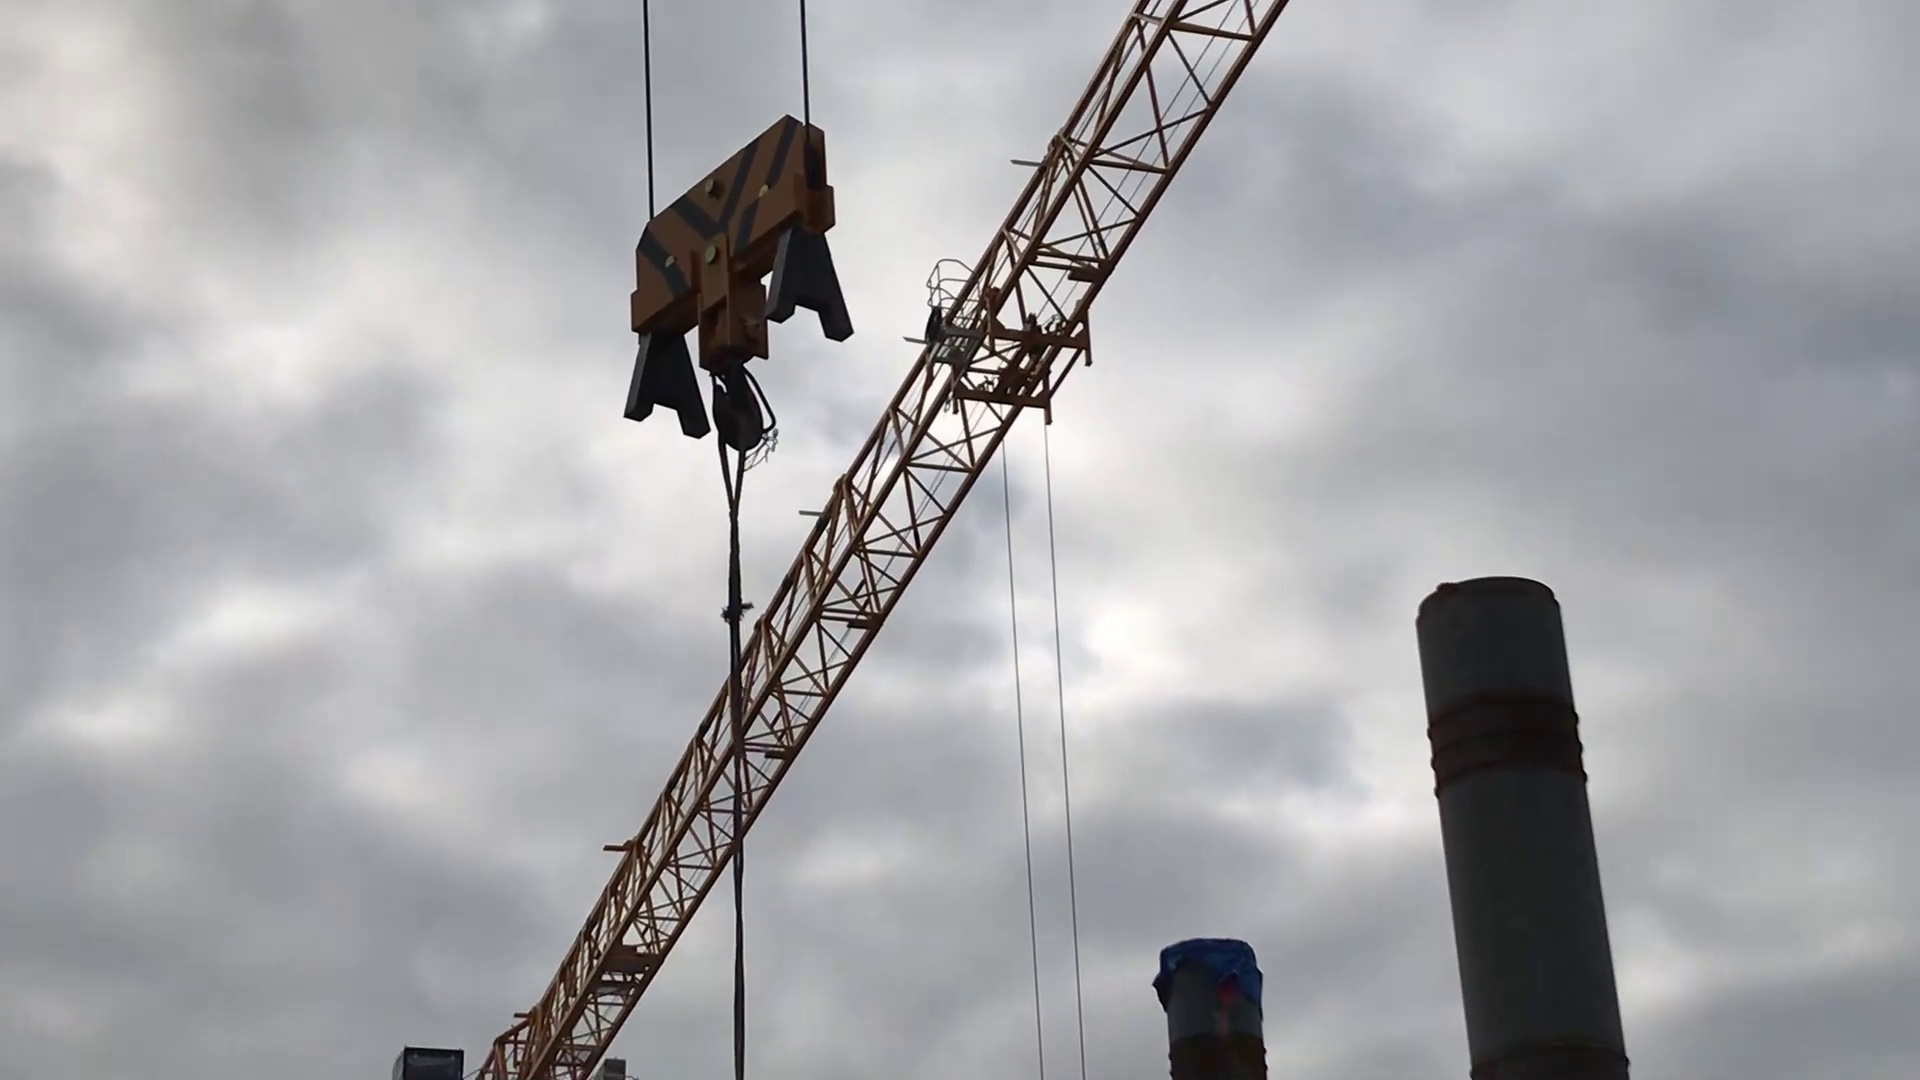hook: (611, 111, 864, 465)
